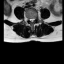CCS_stenosis: (31, 15, 33, 24)
LFS_normal: (34, 15, 36, 21)
LLS_normal: (33, 16, 34, 22)
RFS_normal: (27, 15, 29, 21)
RLS_normal: (29, 16, 31, 22)
